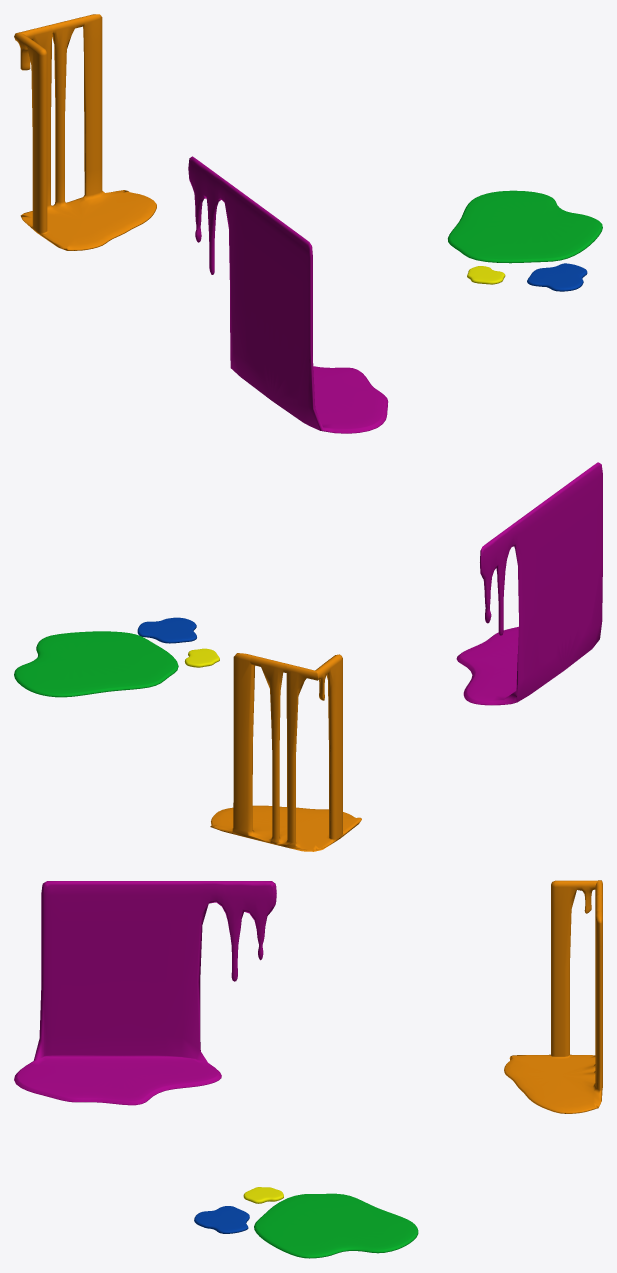
The model's file is paint_mainroom.fbx.
The picture shows the model from 3 angles, top to bottom: view 1: azimuth 30°, elevation 25°; view 2: azimuth 150°, elevation 25°; view 3: azimuth 270°, elevation 25°; orthographic projection. The views are drawn at different scales.
Visible parts, largest first — view 1: pCylinder16, pCylinder21, pCylinder18, pCylinder20; view 2: pCylinder16, pCylinder21, pCylinder18, pCylinder20, pCylinder19; view 3: pCylinder16, pCylinder21, pCylinder18, pCylinder20, pCylinder19.
Part boxes in pixels (x1,y1,x2,y2): pCylinder16: (188, 156, 388, 433); pCylinder21: (14, 14, 156, 250); pCylinder18: (447, 190, 602, 263); pCylinder20: (527, 263, 587, 291); pCylinder16: (456, 462, 602, 705); pCylinder21: (210, 653, 361, 851); pCylinder18: (14, 631, 178, 697); pCylinder20: (137, 617, 196, 643); pCylinder19: (184, 648, 219, 667); pCylinder16: (14, 881, 276, 1105); pCylinder21: (504, 880, 602, 1113); pCylinder18: (254, 1193, 418, 1258); pCylinder20: (194, 1206, 249, 1233); pCylinder19: (243, 1187, 283, 1203).
Size of the model in its own units: 794 by 331 by 975.
